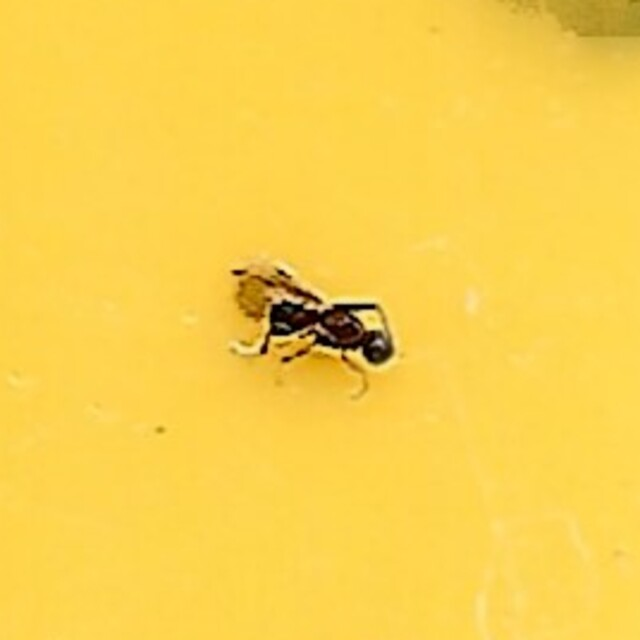Hymenoptera: (239, 262, 401, 378)
